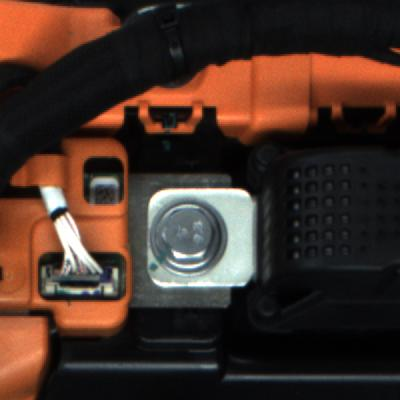nut_b: (149, 198, 222, 276)
